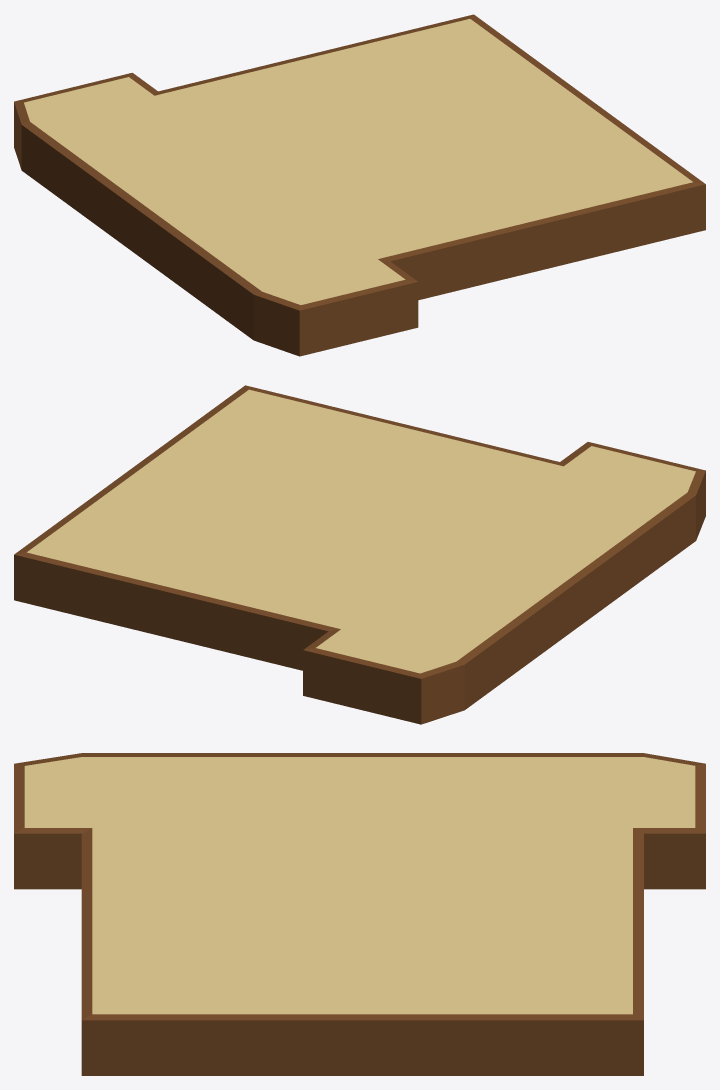
Rendered from bread.fbx.
3 views of the same model, one above another, from view 1: azimuth 30°, elevation 25°; view 2: azimuth 150°, elevation 25°; view 3: azimuth 270°, elevation 25° (orthographic). The views are drawn at different scales.
Visible parts, largest first — view 1: bread; view 2: bread; view 3: bread.
Boxes of the visible parts, x1,y1,x2,y2 form: bread: [14, 14, 705, 356]; bread: [14, 385, 705, 724]; bread: [14, 753, 705, 1075].
Size of the model in its own units: 18.76 by 1.89 by 20.52.
